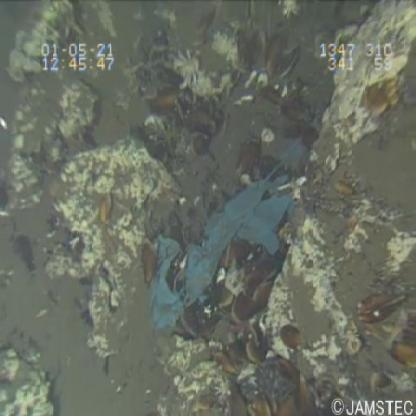Rác: (144, 127, 314, 339)
